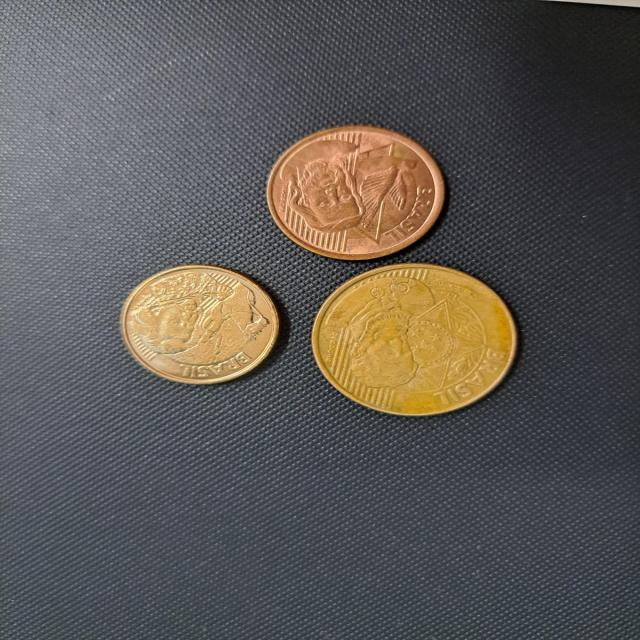25 cents: (310, 266, 518, 422)
